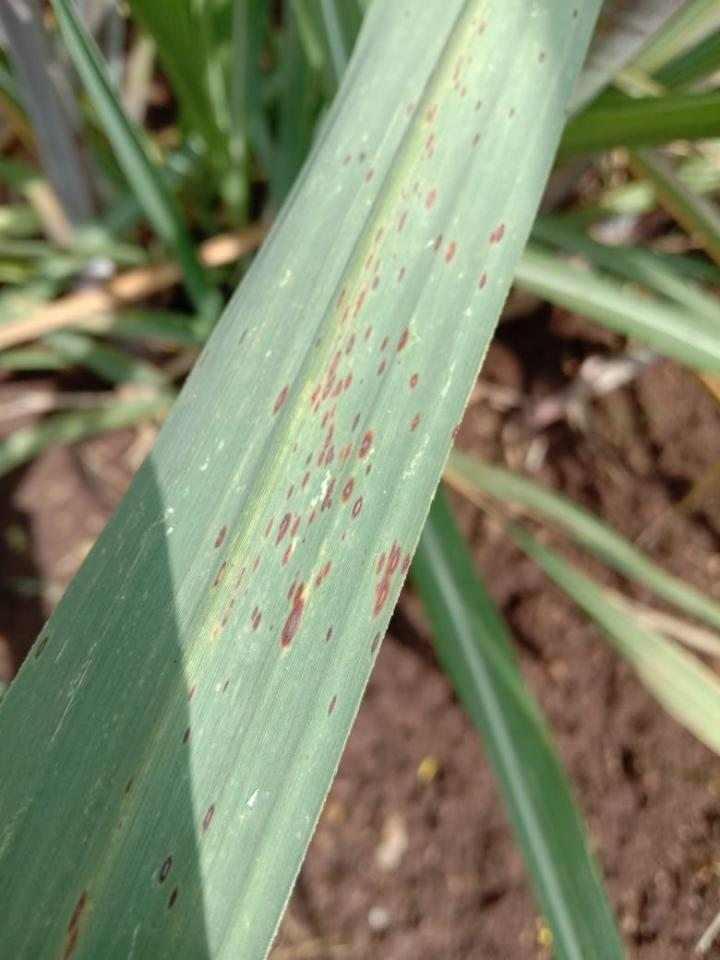Rust: (309, 347, 355, 414), (56, 886, 91, 959), (373, 539, 401, 621), (278, 578, 309, 648), (211, 594, 236, 639), (315, 420, 335, 467), (450, 51, 469, 99), (416, 130, 437, 166), (274, 511, 292, 550), (320, 475, 338, 514), (200, 800, 218, 837), (357, 427, 375, 462), (350, 287, 369, 320), (31, 635, 51, 666), (160, 850, 175, 891), (394, 324, 412, 357), (313, 560, 332, 589), (422, 186, 441, 214), (362, 251, 384, 274), (442, 239, 460, 267), (320, 403, 336, 432), (274, 384, 288, 417), (396, 208, 412, 236), (487, 222, 505, 245), (341, 476, 355, 505), (214, 521, 228, 549), (280, 541, 294, 569), (168, 882, 180, 914), (214, 559, 227, 588), (476, 270, 491, 295), (423, 102, 439, 125), (470, 16, 488, 36), (185, 681, 199, 706), (286, 576, 298, 605), (431, 232, 446, 255), (410, 179, 425, 202), (251, 604, 262, 635), (325, 693, 338, 719), (339, 304, 352, 330), (180, 724, 194, 748), (335, 286, 348, 311), (338, 443, 353, 464), (351, 495, 363, 521), (371, 629, 382, 657), (236, 327, 250, 349), (236, 565, 248, 589), (470, 130, 483, 152), (123, 776, 136, 797), (324, 622, 335, 646), (289, 513, 301, 535), (410, 412, 421, 436), (362, 323, 375, 343), (285, 482, 297, 503), (300, 471, 312, 492), (471, 99, 485, 117), (264, 516, 274, 540), (325, 443, 335, 467), (340, 151, 354, 168), (377, 550, 386, 576), (404, 102, 417, 120), (374, 225, 385, 246), (361, 168, 376, 183), (220, 679, 232, 697), (370, 276, 382, 294), (401, 553, 411, 574), (350, 412, 360, 433), (344, 335, 355, 354), (379, 335, 390, 354), (395, 266, 406, 285), (356, 149, 369, 165), (251, 552, 261, 572), (307, 509, 317, 529), (536, 50, 547, 68), (506, 106, 518, 122), (376, 359, 386, 378), (365, 464, 377, 479), (409, 372, 419, 390), (400, 186, 409, 202), (313, 336, 323, 350), (340, 527, 348, 544), (291, 440, 300, 455), (243, 586, 252, 601), (301, 529, 309, 545), (268, 622, 276, 637), (306, 452, 313, 466), (572, 9, 580, 20), (405, 9, 412, 20), (468, 56, 475, 65)
